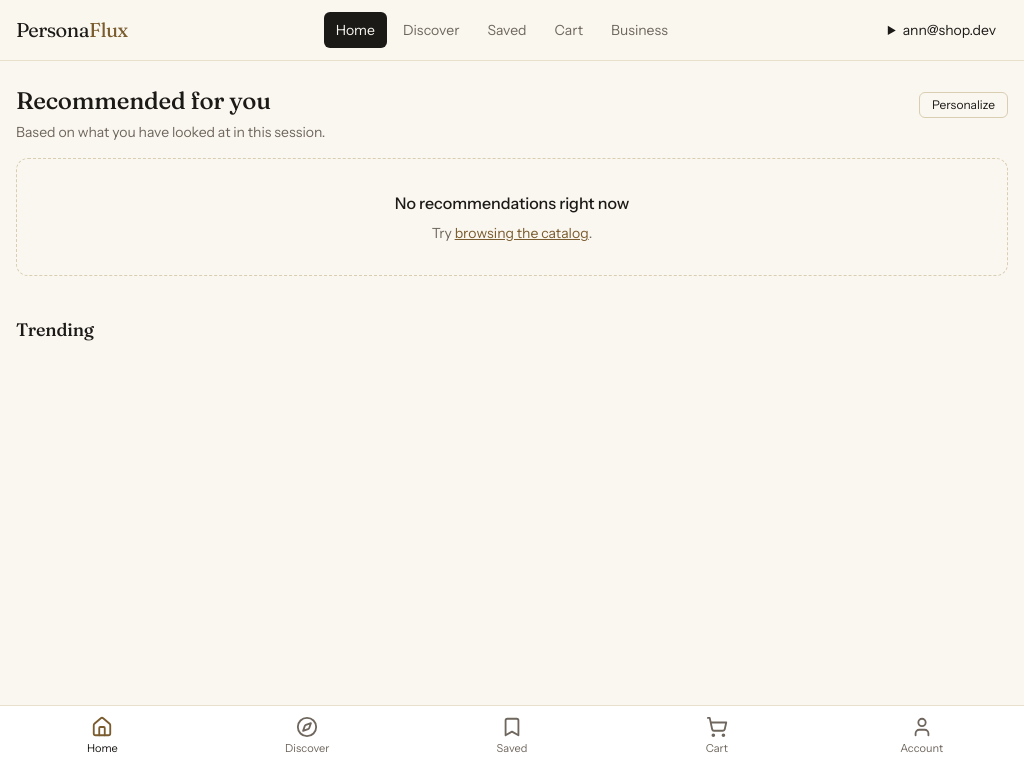
Test case: signing in and out › signs out
What coordinates should you click on to do the following:
click the heading "ann@shop.dev"
I would click on:
 (949, 30)
Its box is [903,21,996,39].
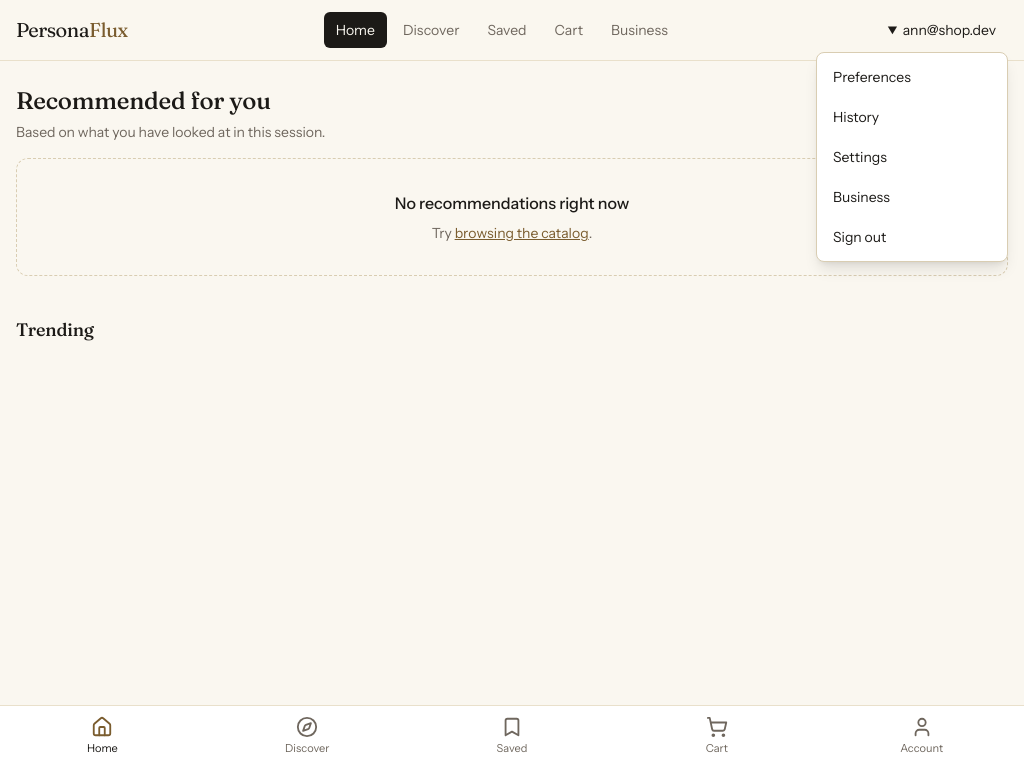
What coordinates should you click on to do the following:
click the button "Sign out"
I would click on:
 (912, 237)
Its box is [821,217,1003,257].
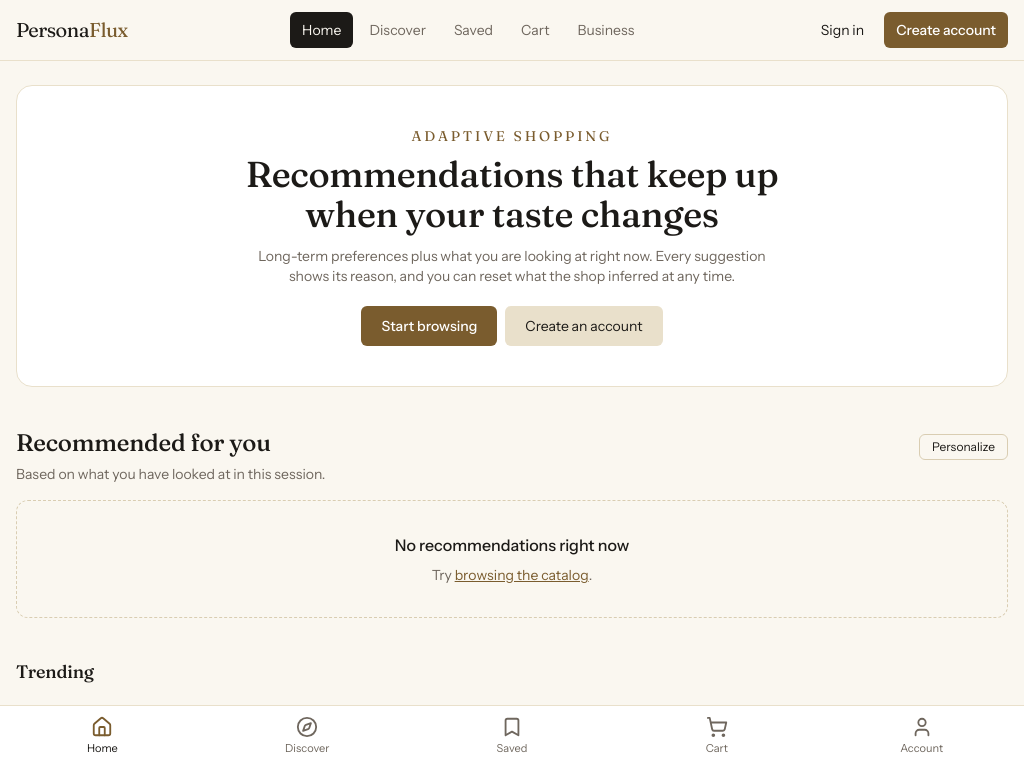
Now the link "Sign in" is shown, box [821,21,864,39]
